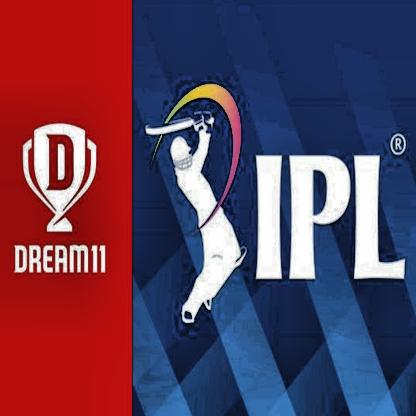Dream11: (24, 122, 97, 233), (15, 245, 107, 274)
IPL: (148, 84, 247, 323), (253, 157, 404, 280)
